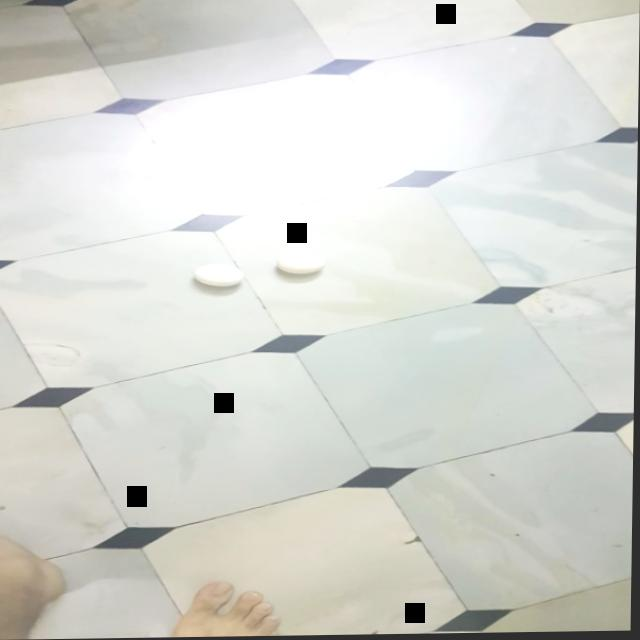eggs: (191, 262, 245, 293), (275, 249, 327, 277)
